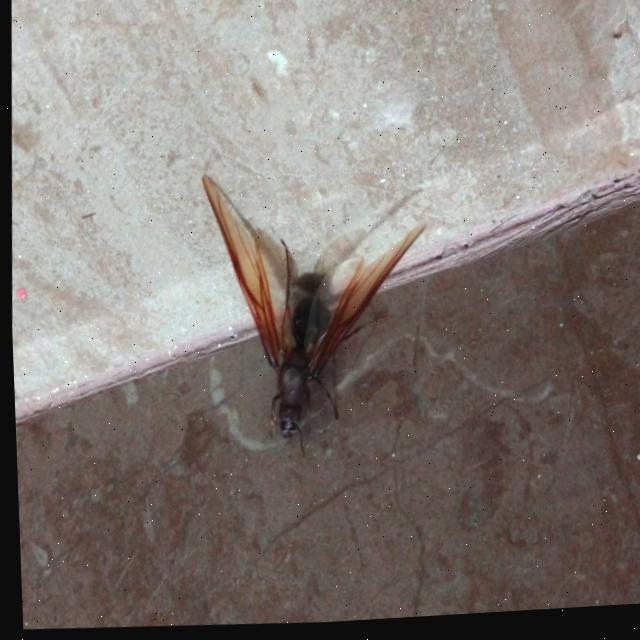Alive-Female-Alate: (190, 164, 434, 471)
